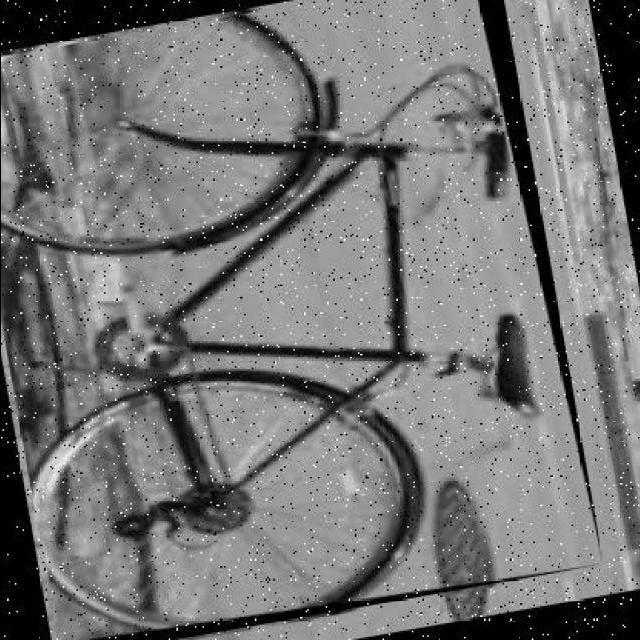bicycle: (3, 1, 606, 639)
